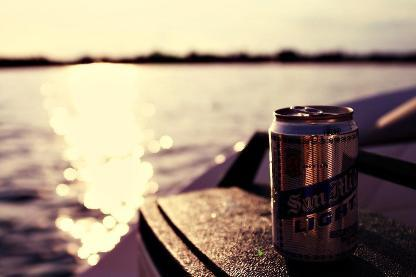Can: (270, 103, 362, 265)
